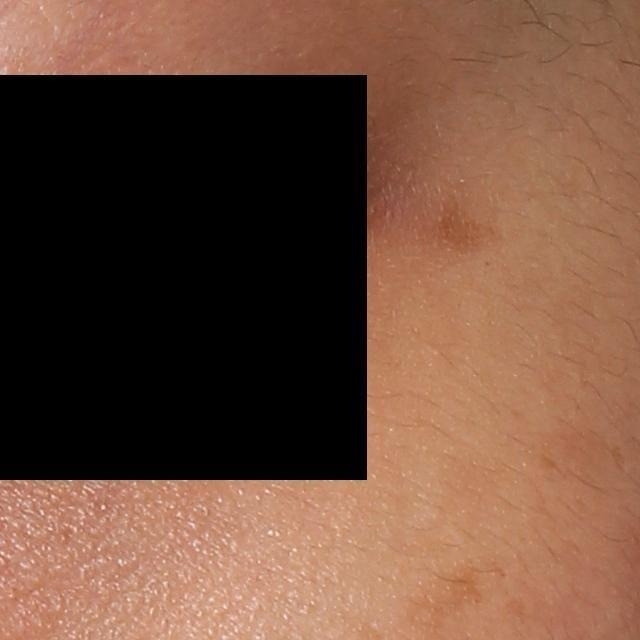melasma: (432, 180, 505, 254)
